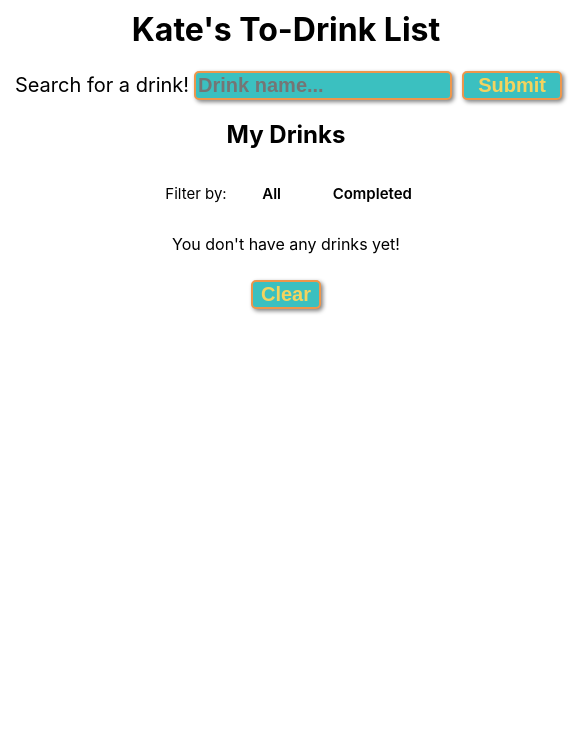
Mt drinks › shows a drink in my drinks list when clicked
Click the field with placeholder "Drink name...".
click(323, 85)  # box x1=194 y1=71 x2=452 y2=100
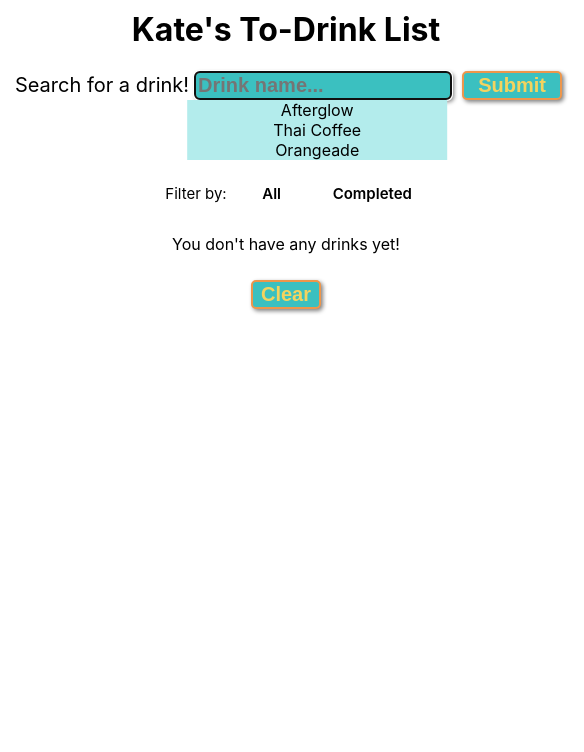
Click the list item "Afterglow".
click(317, 110)  # box x1=281 y1=100 x2=354 y2=120
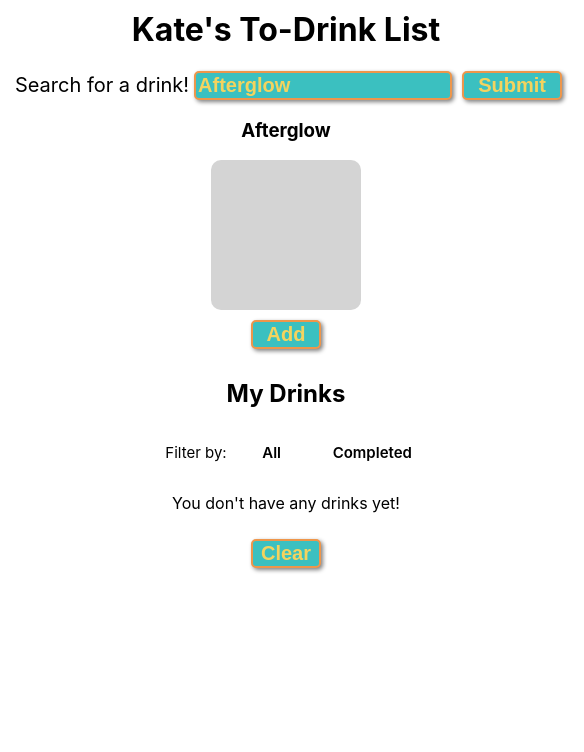
Click the button showing "Submit".
click(512, 85)  # box x1=462 y1=71 x2=562 y2=100
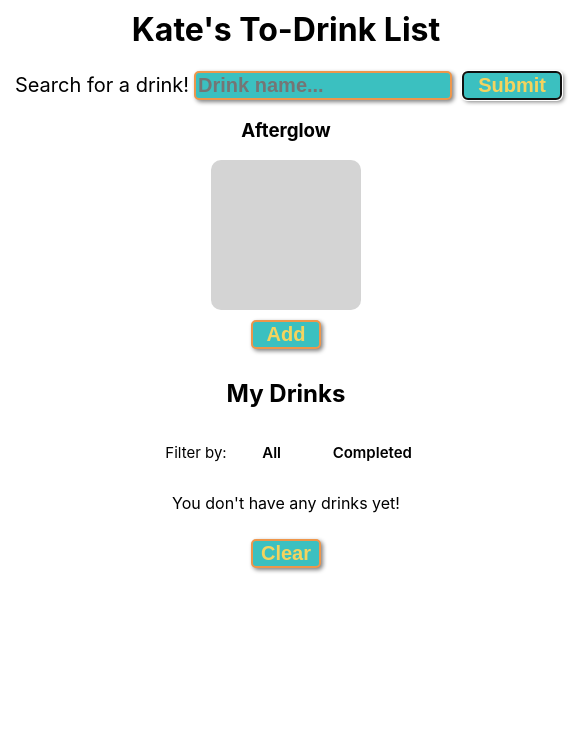
Click the button "Add".
click(286, 335)  # box x1=251 y1=320 x2=321 y2=349
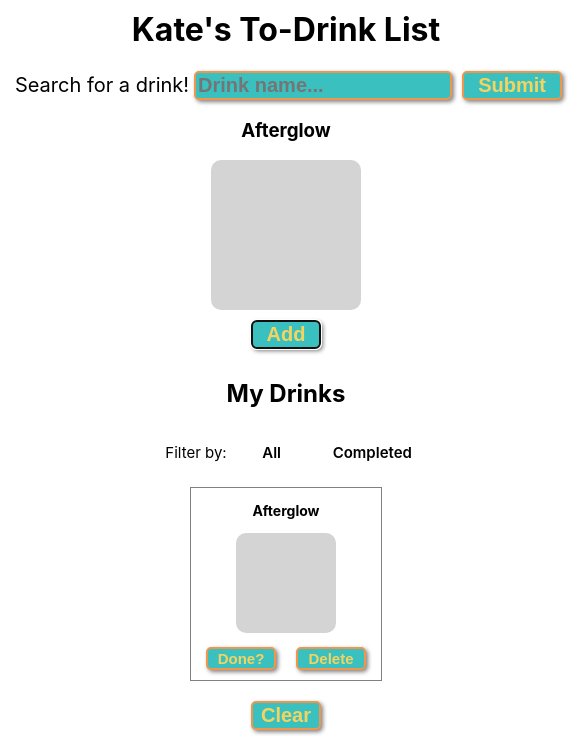
Now the button "Delete" is shown, box x1=296 y1=647 x2=366 y2=670
